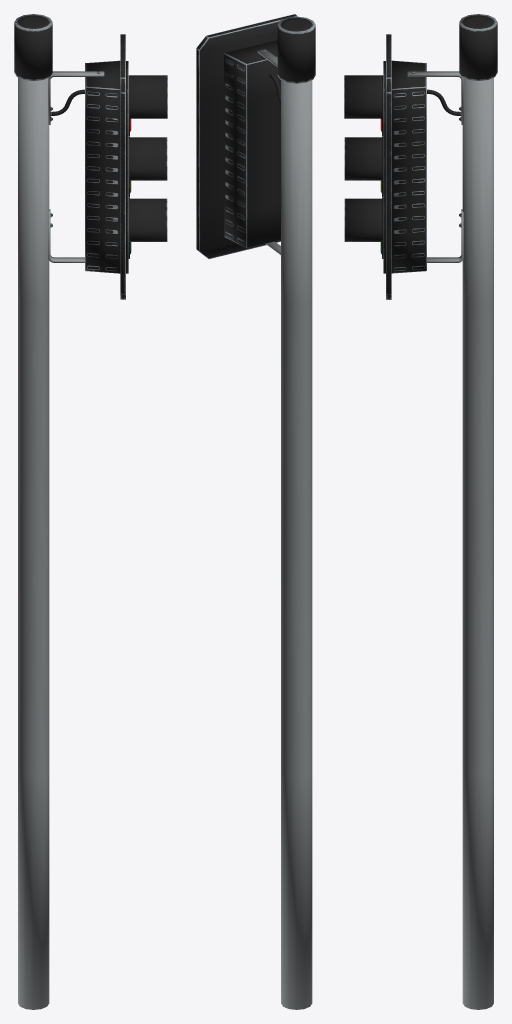
Rendered from traffic_light (1).glb.
3 views of the same model, side by side, from view 1: azimuth 90°, elevation 25°; view 2: azimuth 210°, elevation 25°; view 3: azimuth 270°, elevation 25° (orthographic).
Visible parts, largest first — view 1: Object_2; view 2: Object_2; view 3: Object_2.
Boxes of the visible parts, <box> form: Object_2: <box>14,14,167,1009</box>; Object_2: <box>196,14,315,1009</box>; Object_2: <box>344,14,497,1009</box>.
Size of the model in its own units: 0.4146 by 3.57 by 0.5052.
Materials: 1 (1 with a texture image).
